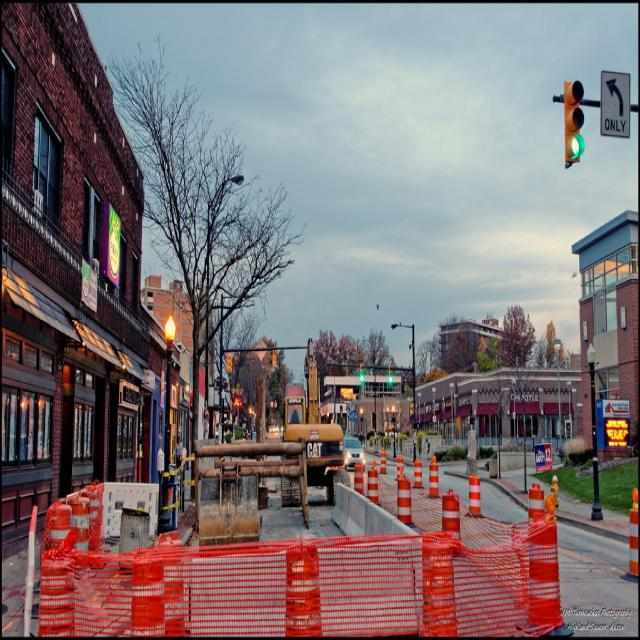traffic light: (564, 82, 585, 167)
